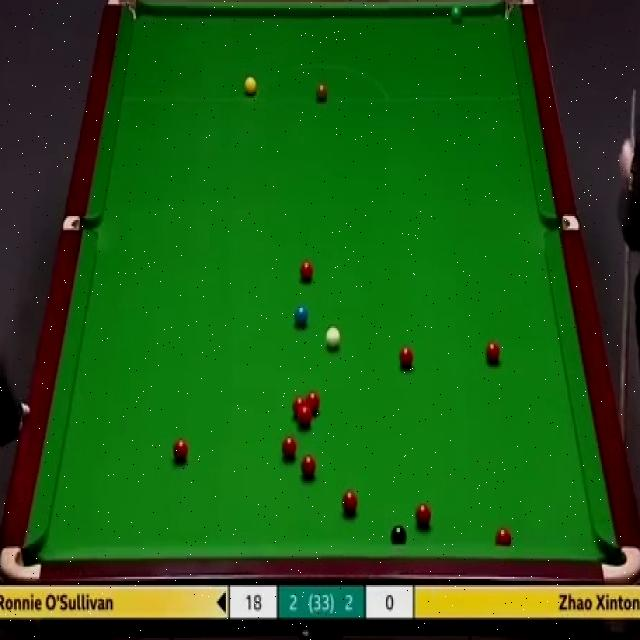black-ball: (391, 523, 407, 545)
blue-ball: (293, 304, 310, 326)
brown-ball: (316, 79, 328, 100)
green-ball: (450, 1, 464, 21)
red-ball: (171, 434, 192, 466), (299, 259, 318, 286), (414, 503, 432, 531), (301, 449, 318, 478), (342, 488, 359, 517), (278, 437, 298, 460), (398, 343, 414, 370), (484, 340, 500, 366), (292, 395, 306, 421), (306, 391, 320, 415), (494, 526, 512, 544), (298, 408, 313, 428)
white-ball: (326, 328, 342, 350)
yellow-ball: (243, 78, 256, 94)
